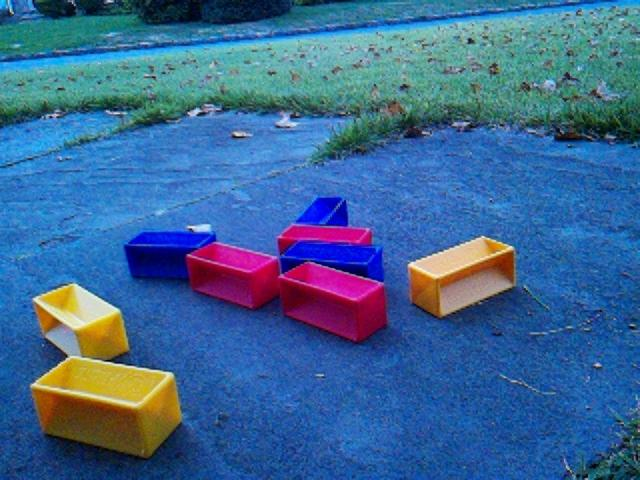blue: (123, 226, 217, 282), (280, 239, 385, 282), (295, 194, 350, 227)
red: (278, 260, 389, 343), (185, 240, 281, 310), (277, 222, 374, 254)
yellow: (29, 354, 183, 459), (407, 234, 518, 319), (32, 281, 131, 360)
